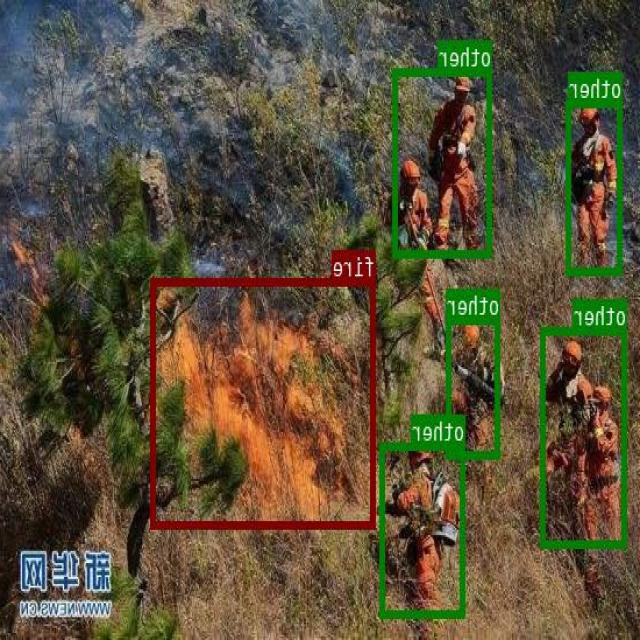fire: (152, 278, 376, 528)
other: (541, 326, 628, 547), (394, 67, 492, 256), (381, 441, 466, 616), (567, 100, 623, 274), (448, 316, 501, 458)
